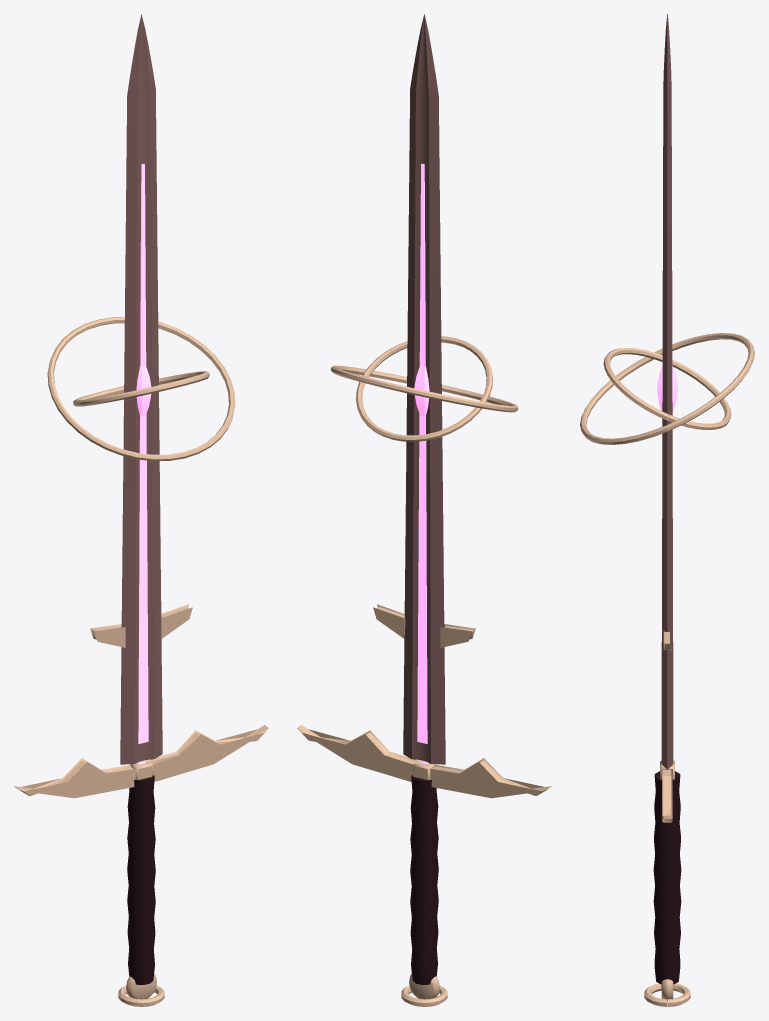
Rendered from asc_chronoguard_weapon.glb.
The picture shows the model from 3 angles, left to right: view 1: azimuth 30°, elevation 25°; view 2: azimuth 150°, elevation 25°; view 3: azimuth 270°, elevation 25°; orthographic projection.
Visible parts, largest first — view 1: asc_chronoguard_weapon; view 2: asc_chronoguard_weapon; view 3: asc_chronoguard_weapon.
Part boxes in pixels (x1,y1,x2,y2): asc_chronoguard_weapon: (14, 14, 268, 1006); asc_chronoguard_weapon: (297, 14, 551, 1006); asc_chronoguard_weapon: (580, 14, 754, 1006).
Bounding box in the file's own units: 0.4369 × 1.64 × 0.2638.
